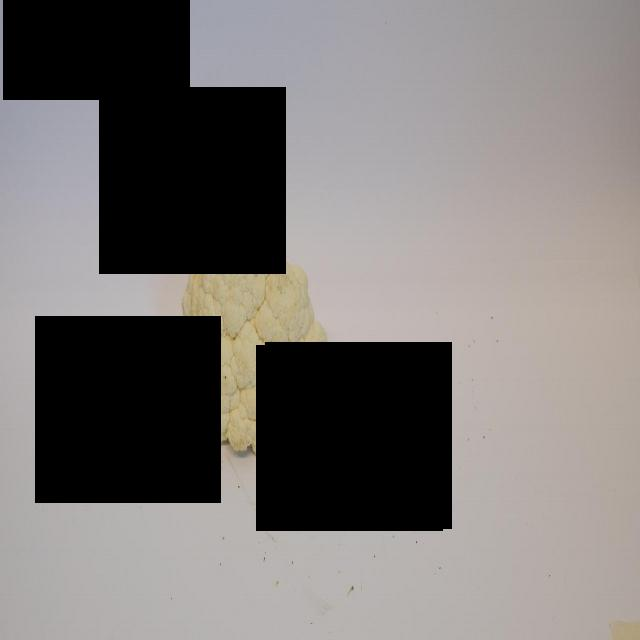cauliflower: (182, 215, 332, 458)
